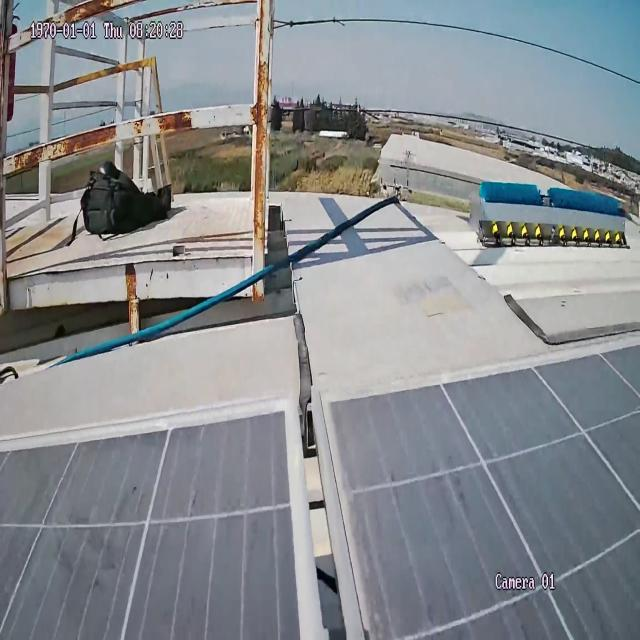interior panel: (285, 407, 388, 638)
outher panel: (6, 198, 637, 443)
